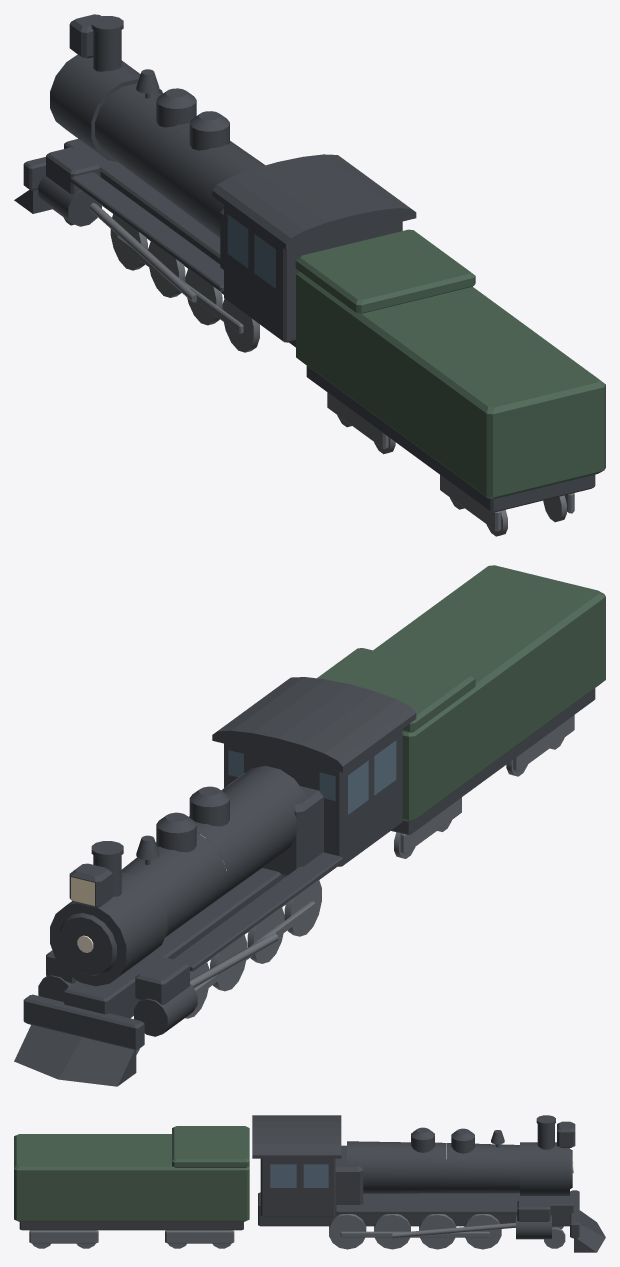
The model's file is freedom-park-locomotive.glb.
3 renders of one model, top to bottom at view 1: azimuth 30°, elevation 25°; view 2: azimuth 150°, elevation 25°; view 3: azimuth 270°, elevation 25°, orthographic. The views are drawn at different scales.
Parts seen in each view (by area): view 1: Gainesville Midland No. 301; view 2: Gainesville Midland No. 301; view 3: Gainesville Midland No. 301.
Part boxes in pixels (x1,y1,x2,y2): Gainesville Midland No. 301: (14, 14, 605, 536); Gainesville Midland No. 301: (14, 565, 605, 1086); Gainesville Midland No. 301: (14, 1115, 605, 1252).
Size of the model in its own units: 3.28 by 4.78 by 21.35.
